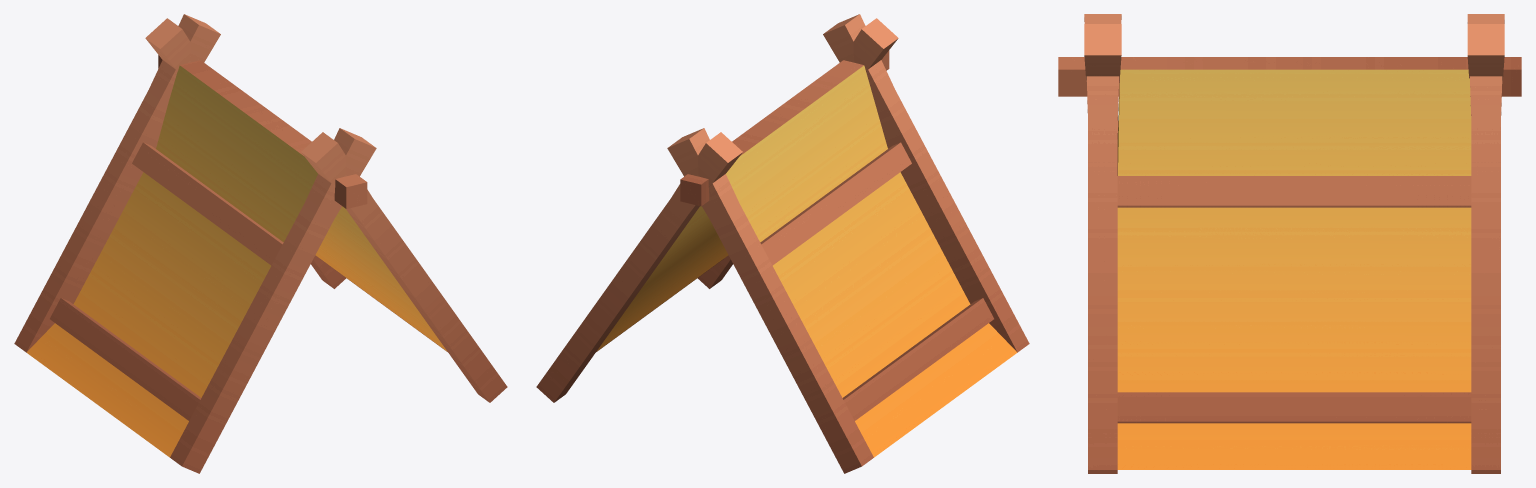
File: tent-canvas.glb
3 renders of one model, left to right at view 1: azimuth 30°, elevation 25°; view 2: azimuth 150°, elevation 25°; view 3: azimuth 270°, elevation 25°, orthographic. The views are drawn at different scales.
Visible parts, largest first — view 1: tent-canvas; view 2: tent-canvas; view 3: tent-canvas.
Boxes of the visible parts, <box> form: tent-canvas: <box>14,14,507,473</box>; tent-canvas: <box>536,14,1029,473</box>; tent-canvas: <box>1058,14,1521,473</box>.
Size of the model in its own units: 0.5608 by 0.4914 by 0.561.
1 material, 1 textured.
